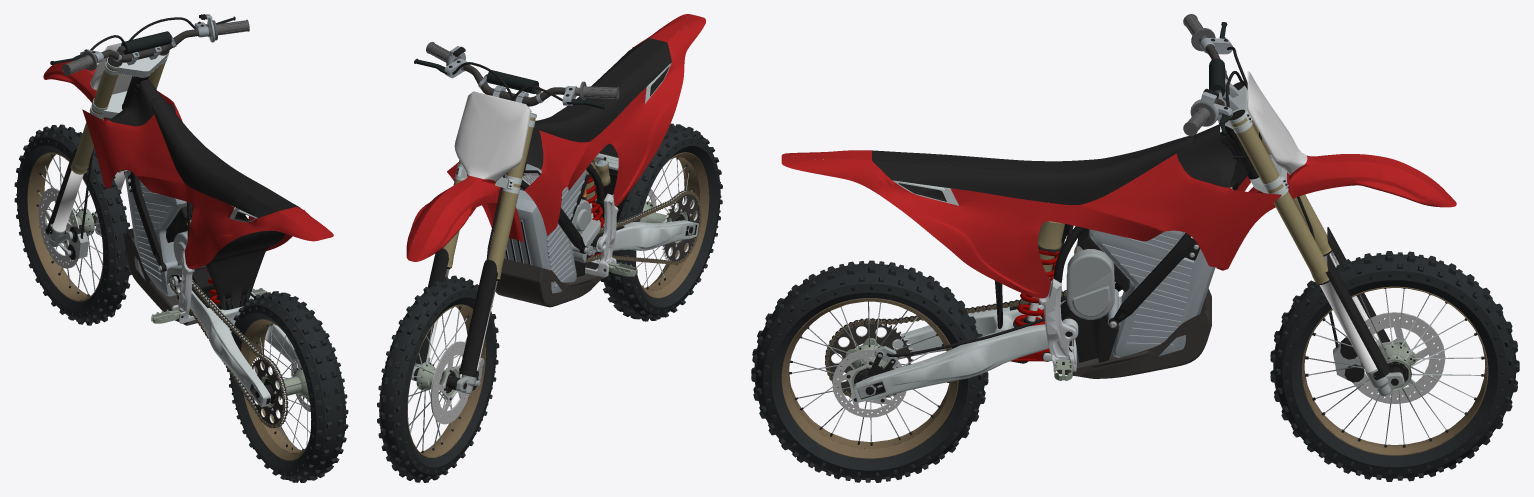
Rendered from stark-varg.glb.
3 views of the same model, side by side, from view 1: azimuth 30°, elevation 25°; view 2: azimuth 150°, elevation 25°; view 3: azimuth 270°, elevation 25° (orthographic). The views are drawn at different scales.
Parts seen in each view (by area): view 1: Body, Wheel_R, Wheel_F, Swingarm, ForkUpper, Handlebars, FrontFork, Brake_F; view 2: Body, Wheel_F, ForkUpper, Wheel_R, Handlebars, FrontFork, Swingarm; view 3: Body, Wheel_R, Wheel_F, ForkUpper, Swingarm, FrontFork, Handlebars, Brake_F.
Boxes of the visible parts, left/top/right/bottom form: Body: left=80, top=17, right=333, bottom=333; Wheel_R: left=227, top=291, right=348, bottom=482; Wheel_F: left=14, top=124, right=131, bottom=325; Swingarm: left=169, top=274, right=301, bottom=428; ForkUpper: left=43, top=42, right=169, bottom=177; Handlebars: left=50, top=14, right=249, bottom=75; FrontFork: left=44, top=149, right=125, bottom=252; Brake_F: left=65, top=225, right=88, bottom=259; Body: left=447, top=14, right=705, bottom=307; Wheel_F: left=377, top=275, right=499, bottom=482; ForkUpper: left=406, top=91, right=536, bottom=272; Wheel_R: left=600, top=123, right=722, bottom=321; Handlebars: left=414, top=42, right=619, bottom=109; FrontFork: left=411, top=248, right=501, bottom=394; Swingarm: left=585, top=190, right=701, bottom=264; Body: left=781, top=46, right=1338, bottom=380; Wheel_R: left=751, top=260, right=988, bottom=482; Wheel_F: left=1270, top=251, right=1519, bottom=481; ForkUpper: left=1216, top=71, right=1456, bottom=273; Swingarm: left=825, top=290, right=1066, bottom=402; FrontFork: left=1310, top=227, right=1404, bottom=395; Handlebars: left=1183, top=14, right=1232, bottom=135; Brake_F: left=1333, top=337, right=1364, bottom=382.
Size of the model in its own units: 0.769 by 1.37 by 2.26.
